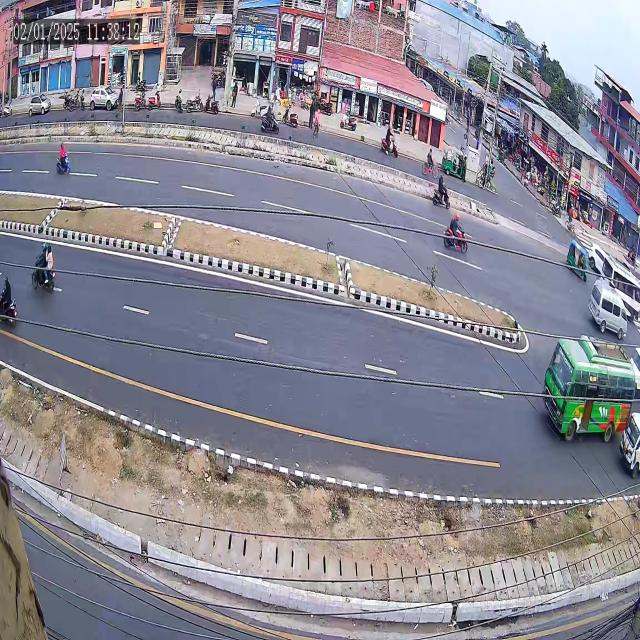auto: (564, 233, 590, 296)
bus: (540, 330, 635, 459)
motorcycle: (30, 228, 65, 302), (441, 202, 471, 264), (0, 263, 18, 331), (50, 130, 72, 175), (429, 167, 451, 212), (378, 120, 400, 160)
van: (585, 277, 630, 346)
